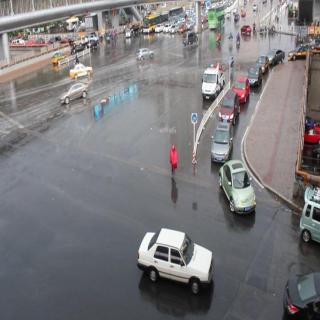BigCar: (208, 8, 224, 30)
Car: (136, 222, 218, 296), (217, 160, 257, 216), (209, 121, 234, 165), (59, 81, 92, 106), (202, 61, 222, 102), (218, 87, 237, 124), (233, 71, 250, 112), (68, 63, 95, 79), (268, 46, 285, 71), (134, 46, 156, 65), (249, 62, 263, 91), (182, 28, 199, 48), (52, 51, 68, 65), (143, 15, 154, 35), (88, 38, 99, 51), (240, 22, 250, 36), (170, 22, 178, 36), (155, 22, 163, 36), (125, 26, 132, 40), (163, 22, 168, 36)
